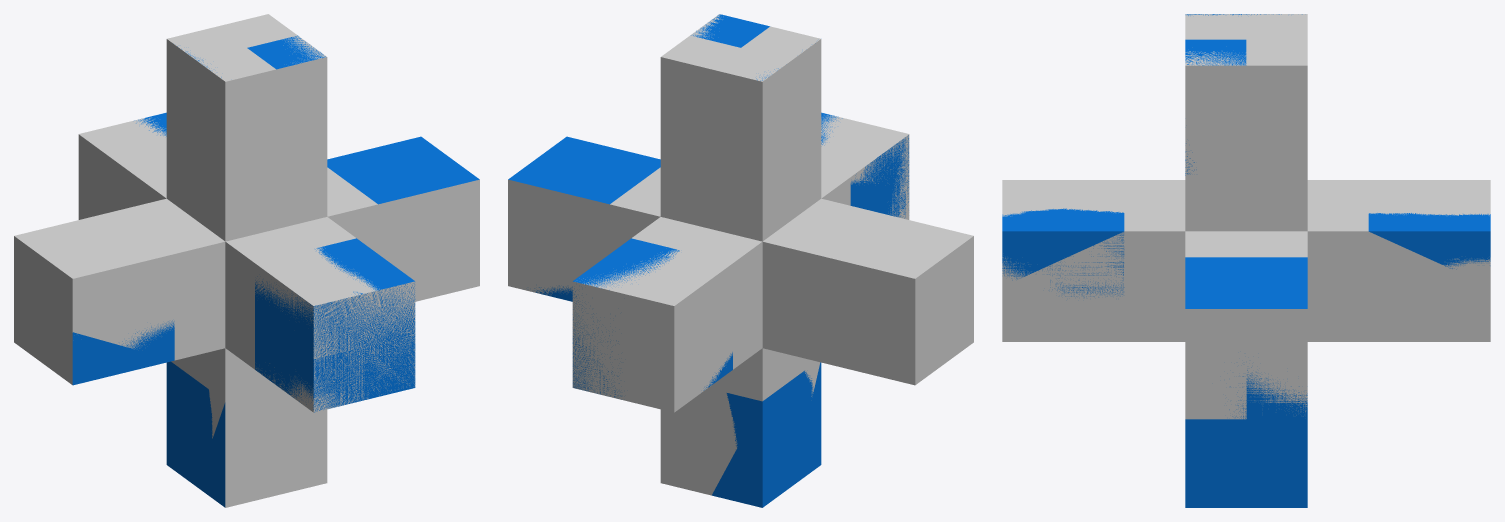
The model's file is sections_3.fbx.
3 views of the same model, side by side, from view 1: azimuth 30°, elevation 25°; view 2: azimuth 150°, elevation 25°; view 3: azimuth 270°, elevation 25° (orthographic). The views are drawn at different scales.
Parts seen in each view (by area): view 1: dw, sw, ss, wu, un, su, uu, uw, eu, ue, ed, wd (+13 smaller); view 2: wd, eu, nu, uu, nn, us, dw, ne, un, uw, nd, ww (+15 smaller); view 3: uu, nd, sd, de, eu, su, se, es, ss, nu, ne, uw (+8 smaller).
Boxes of the visible parts, bbox=[...] form: dw: bbox=[166, 348, 311, 507]; sw: bbox=[225, 251, 364, 412]; ss: bbox=[255, 226, 415, 412]; wu: bbox=[14, 236, 225, 349]; un: bbox=[166, 14, 327, 241]; su: bbox=[225, 217, 415, 359]; uu: bbox=[177, 35, 327, 240]; uw: bbox=[169, 26, 292, 187]; eu: bbox=[327, 136, 479, 216]; ue: bbox=[166, 36, 326, 229]; ed: bbox=[367, 204, 479, 301]; wd: bbox=[14, 198, 224, 384]; wd: bbox=[762, 198, 973, 385]; eu: bbox=[508, 136, 660, 281]; nu: bbox=[572, 217, 762, 359]; uu: bbox=[691, 14, 821, 241]; nn: bbox=[572, 226, 735, 412]; us: bbox=[660, 39, 821, 235]; dw: bbox=[762, 348, 821, 507]; ne: bbox=[572, 230, 762, 399]; un: bbox=[661, 35, 818, 229]; uw: bbox=[661, 26, 820, 233]; nd: bbox=[572, 229, 761, 412]; ww: bbox=[814, 214, 973, 331]; uu: bbox=[1185, 14, 1307, 231]; nd: bbox=[1307, 180, 1490, 341]; sd: bbox=[1002, 180, 1185, 312]; de: bbox=[1185, 419, 1307, 507]; eu: bbox=[1185, 231, 1307, 363]; su: bbox=[1002, 208, 1185, 341]; se: bbox=[1002, 180, 1185, 298]; es: bbox=[1185, 231, 1307, 419]; ss: bbox=[1002, 180, 1183, 341]; nu: bbox=[1307, 211, 1490, 341]; ne: bbox=[1307, 180, 1490, 269]; uw: bbox=[1185, 14, 1307, 231].
Bounding box in the file's own units: 800 × 800 × 800.
